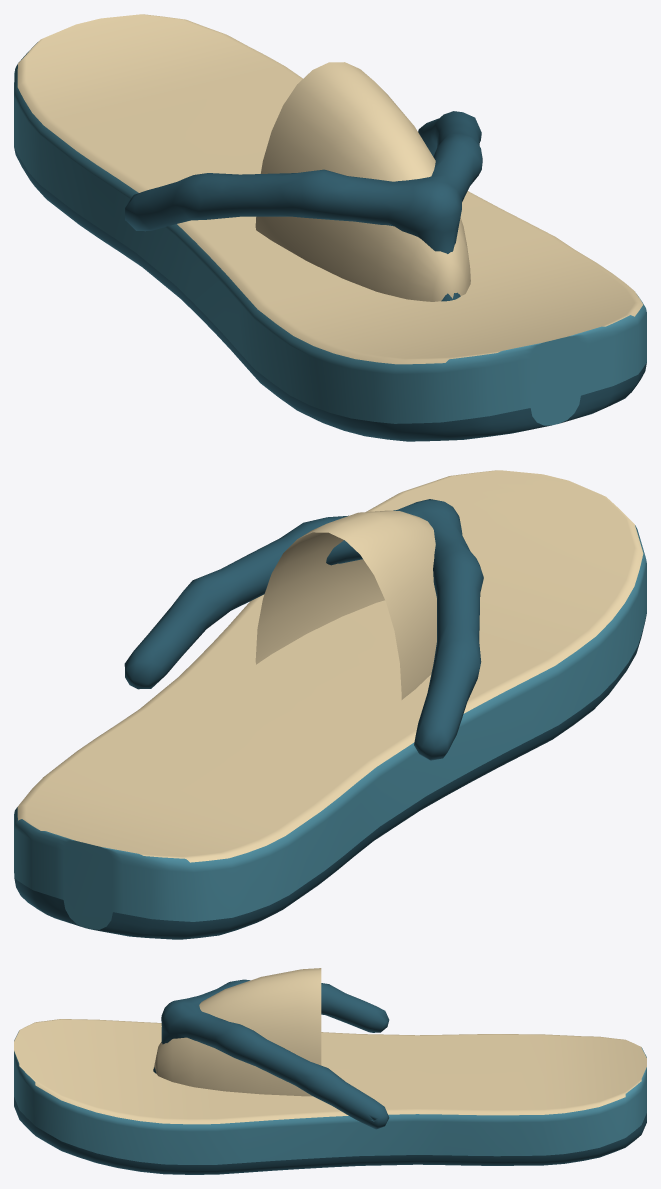
File: w_slipper@slipper_flipflop.glb
3 renders of one model, top to bottom at view 1: azimuth 30°, elevation 25°; view 2: azimuth 150°, elevation 25°; view 3: azimuth 270°, elevation 25°, orthographic. The views are drawn at different scales.
Visible parts, largest first — view 1: sole_wzN__bed__pe6d2a8, sole_wzB__sole__p4d8ea1, strap_wzN__strap__p2f5d6e, sole_wzB__rubber__p2f5d6e; view 2: sole_wzN__bed__pe6d2a8, sole_wzB__sole__p4d8ea1, strap_wzN__strap__p2f5d6e, sole_wzB__rubber__p2f5d6e; view 3: sole_wzN__bed__pe6d2a8, sole_wzB__sole__p4d8ea1, strap_wzN__strap__p2f5d6e, sole_wzB__rubber__p2f5d6e.
Boxes of the visible parts, <box> form: sole_wzN__bed__pe6d2a8: <box>17,14,643,364</box>; sole_wzB__sole__p4d8ea1: <box>14,42,646,425</box>; strap_wzN__strap__p2f5d6e: <box>125,111,482,301</box>; sole_wzB__rubber__p2f5d6e: <box>14,147,646,441</box>; sole_wzN__bed__pe6d2a8: <box>17,470,643,862</box>; sole_wzB__sole__p4d8ea1: <box>14,525,646,929</box>; strap_wzN__strap__p2f5d6e: <box>124,499,483,760</box>; sole_wzB__rubber__p2f5d6e: <box>14,615,646,939</box>; sole_wzN__bed__pe6d2a8: <box>14,968,646,1124</box>; sole_wzB__sole__p4d8ea1: <box>14,1031,646,1164</box>; strap_wzN__strap__p2f5d6e: <box>153,979,389,1129</box>; sole_wzB__rubber__p2f5d6e: <box>14,1097,646,1174</box>.
Bounding box in the file's own units: 0.1116 × 0.0773 × 0.279.
